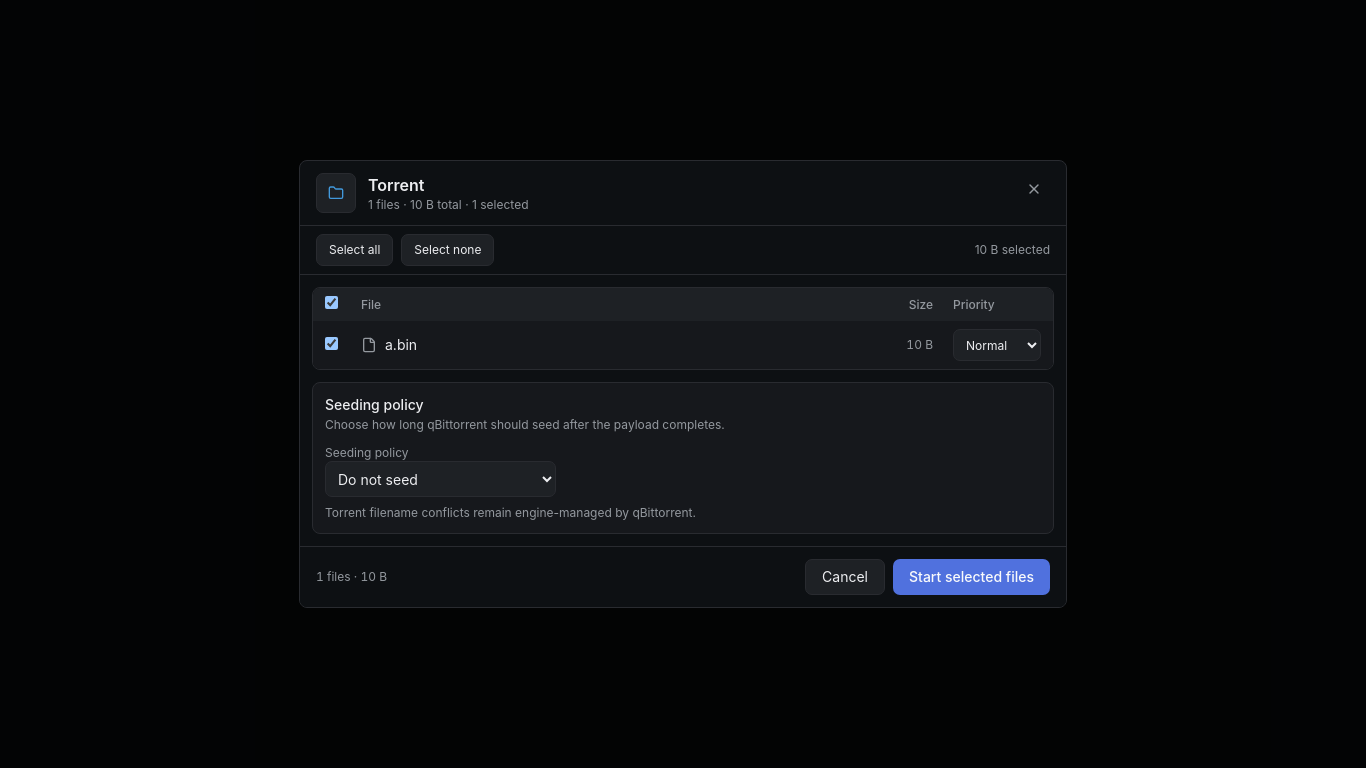
Test: TorrentFileSelector seeding policy & submission › displays human-readable disk space message for INSUFFICIENT_DISK_SPACE errors
Expected: the text "a.bin" is shown, x1=385 y1=335 x2=417 y2=355
Step 1. Click the button with aria-label "Start Download" → click(972, 577), box x1=893 y1=559 x2=1050 y2=595
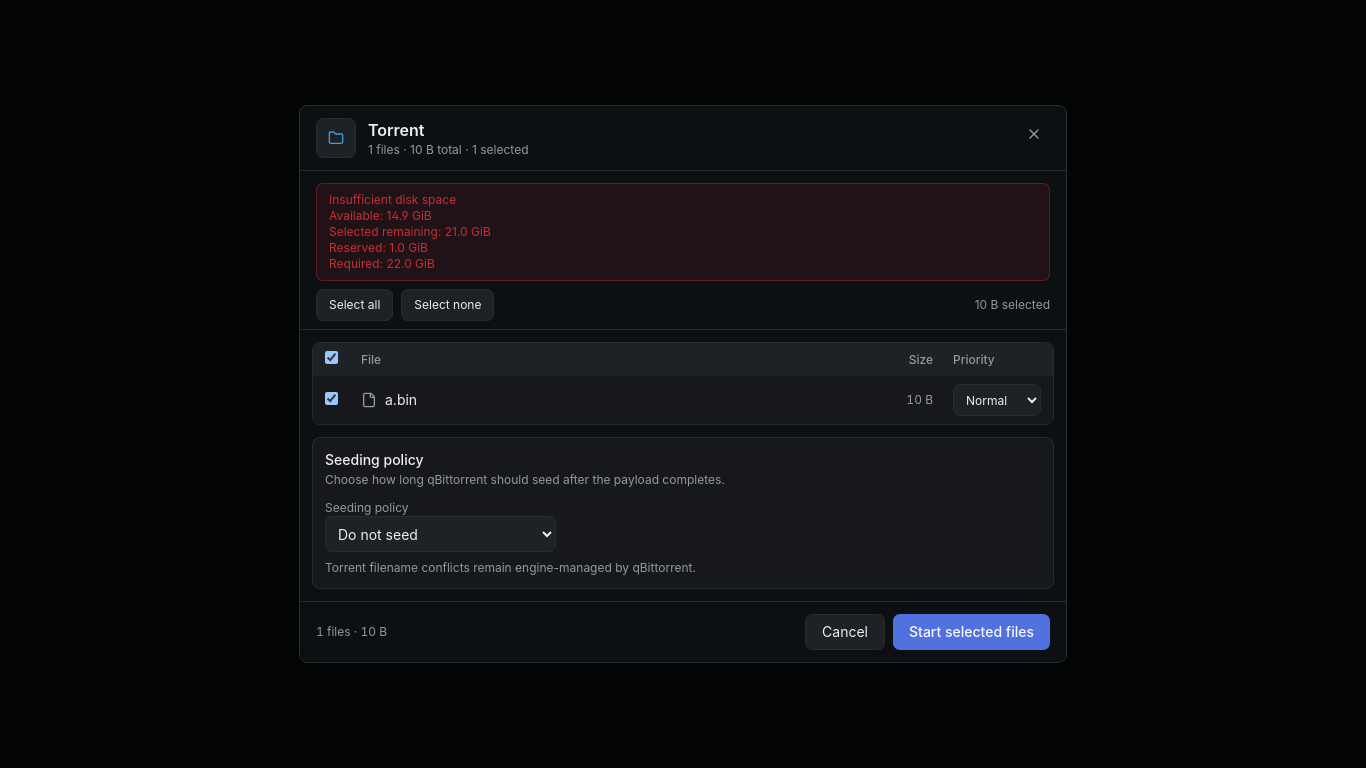
Expected: the message with test id "torrent-submit-error" shows "Insufficient disk space", x1=329 y1=192 x2=491 y2=271
Expected: the message with test id "torrent-submit-error" shows "Available:", x1=329 y1=192 x2=491 y2=271
Expected: the message with test id "torrent-submit-error" shows "Selected remaining:", x1=329 y1=192 x2=491 y2=271
